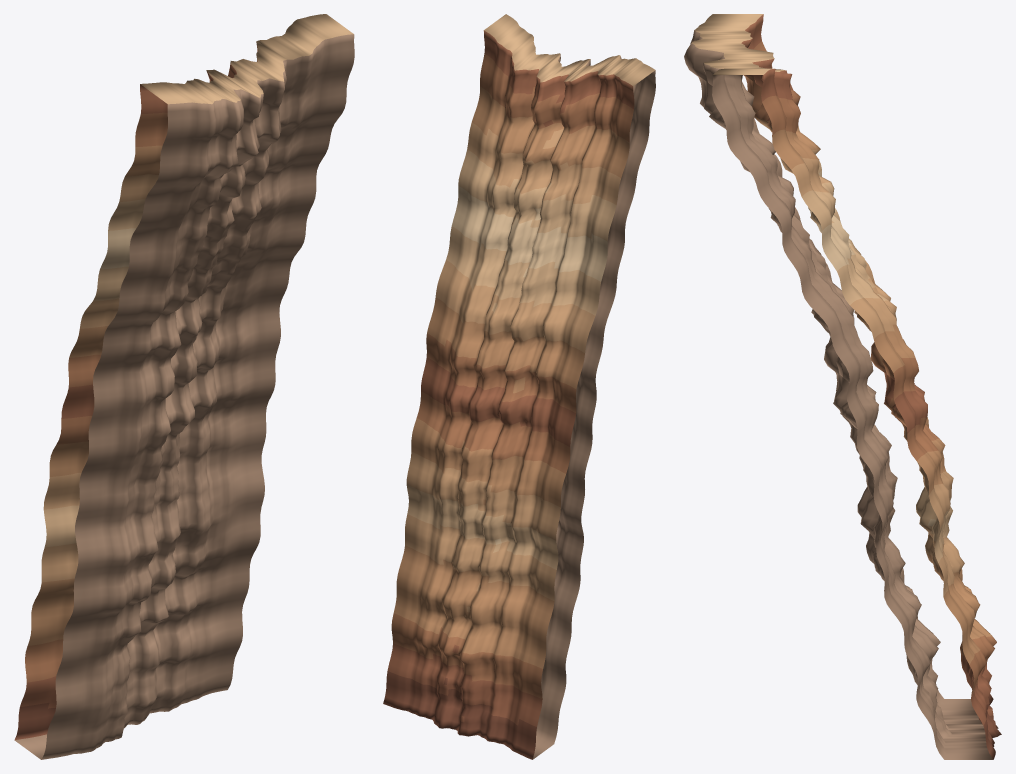
Rendered from SM_CanyonWall_R_Rise_3m.glb.
3 renders of one model, left to right at view 1: azimuth 30°, elevation 25°; view 2: azimuth 150°, elevation 25°; view 3: azimuth 270°, elevation 25°, orthographic. The views are drawn at different scales.
Visible parts, largest first — view 1: SM_CanyonWall_R_Rise_3m; view 2: SM_CanyonWall_R_Rise_3m; view 3: SM_CanyonWall_R_Rise_3m.
Part boxes in pixels (x1=…): SM_CanyonWall_R_Rise_3m: x1=14, y1=14, x2=354, y2=759; SM_CanyonWall_R_Rise_3m: x1=383, y1=14, x2=655, y2=759; SM_CanyonWall_R_Rise_3m: x1=684, y1=14, x2=1001, y2=759.
Bounding box in the file's own units: 24 × 95 × 38.7.
